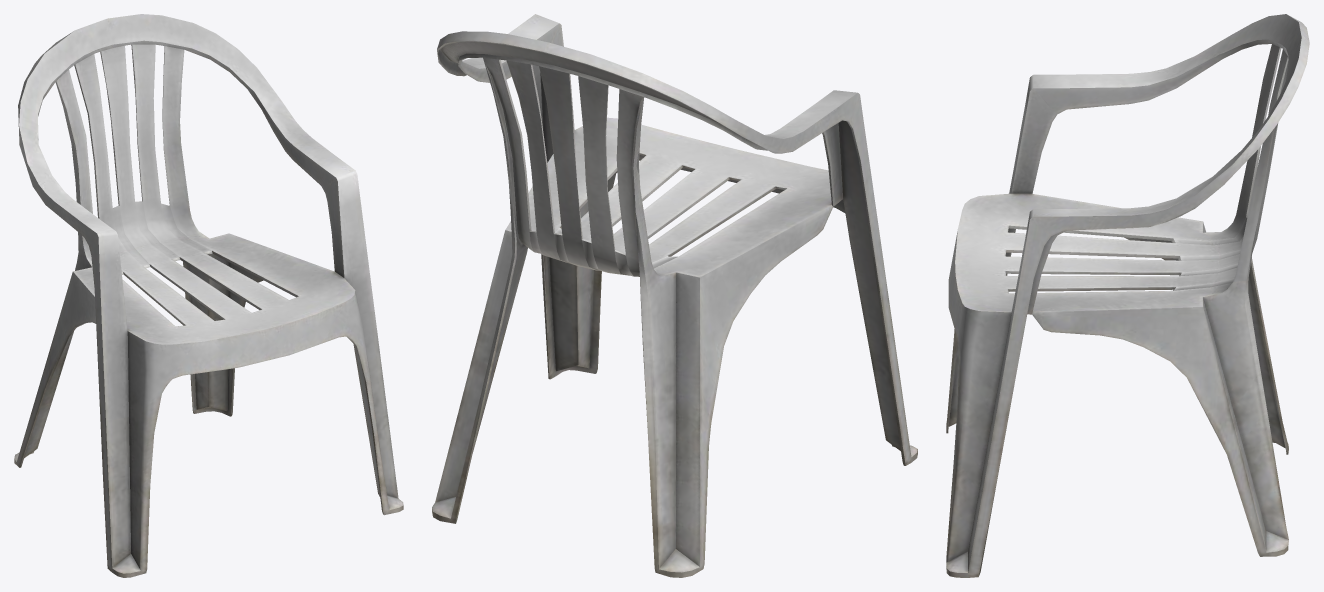
The model's file is plastic_monobloc_chair_01.lod1.glb.
3 renders of one model, left to right at view 1: azimuth 30°, elevation 25°; view 2: azimuth 150°, elevation 25°; view 3: azimuth 270°, elevation 25°, orthographic. The views are drawn at different scales.
Visible parts, largest first — view 1: plastic_monobloc_chair_01; view 2: plastic_monobloc_chair_01; view 3: plastic_monobloc_chair_01.
Boxes of the visible parts, bbox=[...] form: plastic_monobloc_chair_01: bbox=[14, 14, 403, 577]; plastic_monobloc_chair_01: bbox=[432, 14, 917, 577]; plastic_monobloc_chair_01: bbox=[946, 14, 1309, 577].
Bounding box in the file's own units: 0.6419 × 0.8798 × 0.6276.
1 material, 1 textured.
